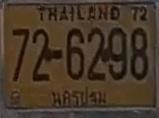2: (87, 27, 106, 82), (32, 28, 50, 82)
6: (66, 28, 84, 79)
7: (12, 28, 29, 79)
8: (130, 27, 147, 79)
9: (106, 27, 126, 79)
NPT: (48, 85, 111, 109)
